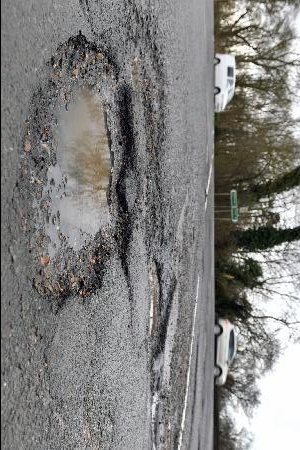pothole: (18, 30, 138, 305), (143, 255, 178, 358)
